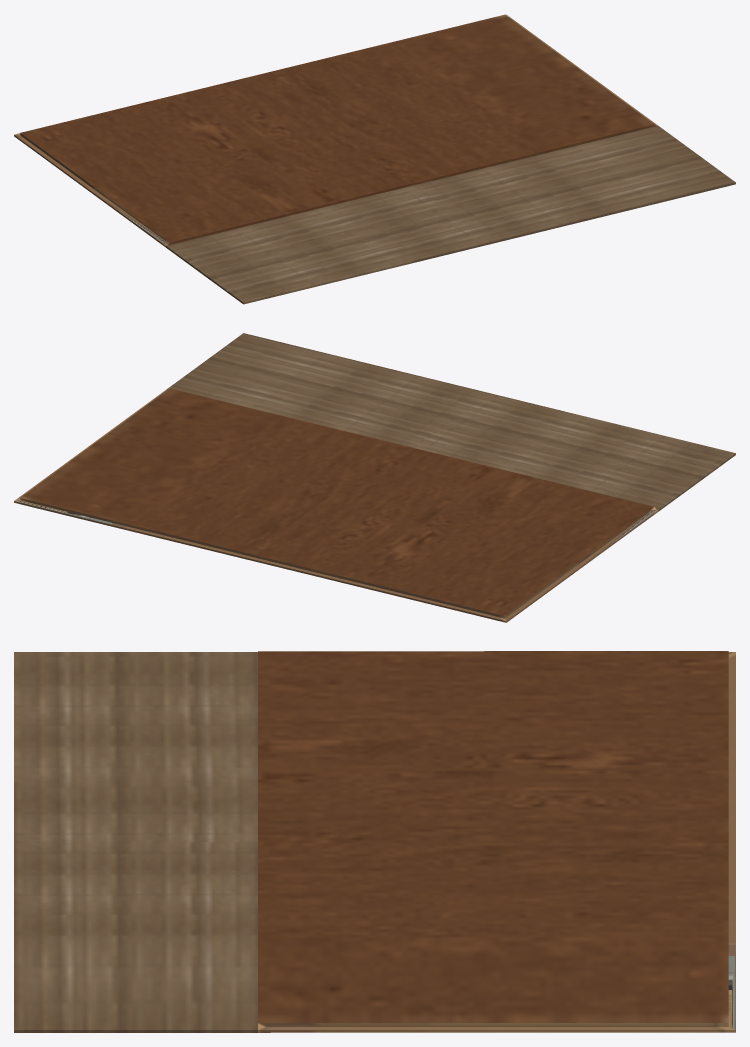
The model's file is SanNha.fbx.
3 views of the same model, one above another, from view 1: azimuth 30°, elevation 25°; view 2: azimuth 150°, elevation 25°; view 3: azimuth 270°, elevation 25° (orthographic). The views are drawn at different scales.
Visible parts, largest first — view 1: SanNha.001; view 2: SanNha.001; view 3: SanNha.001.
Boxes of the visible parts, left/top/right/bottom form: SanNha.001: left=14, top=14, right=735, bottom=304; SanNha.001: left=14, top=333, right=735, bottom=622; SanNha.001: left=14, top=651, right=735, bottom=1032.
Bounding box in the file's own units: 1182 × 9.95 × 954.
1 material, 1 textured.
